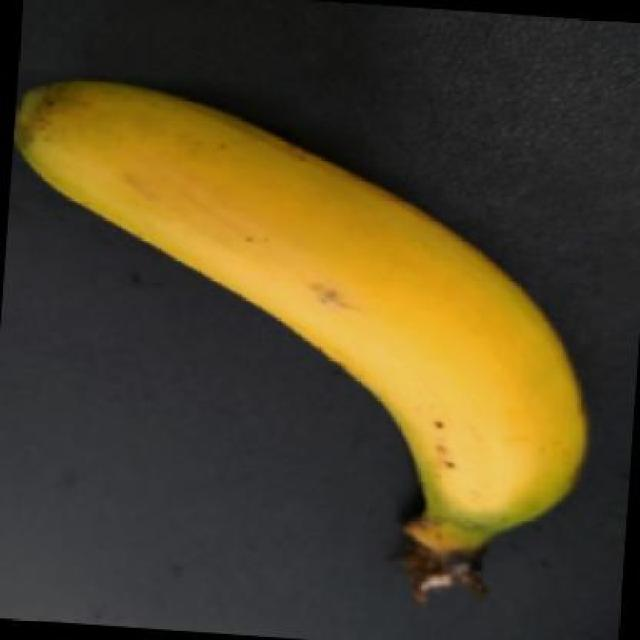Ripe: (8, 52, 598, 614)
